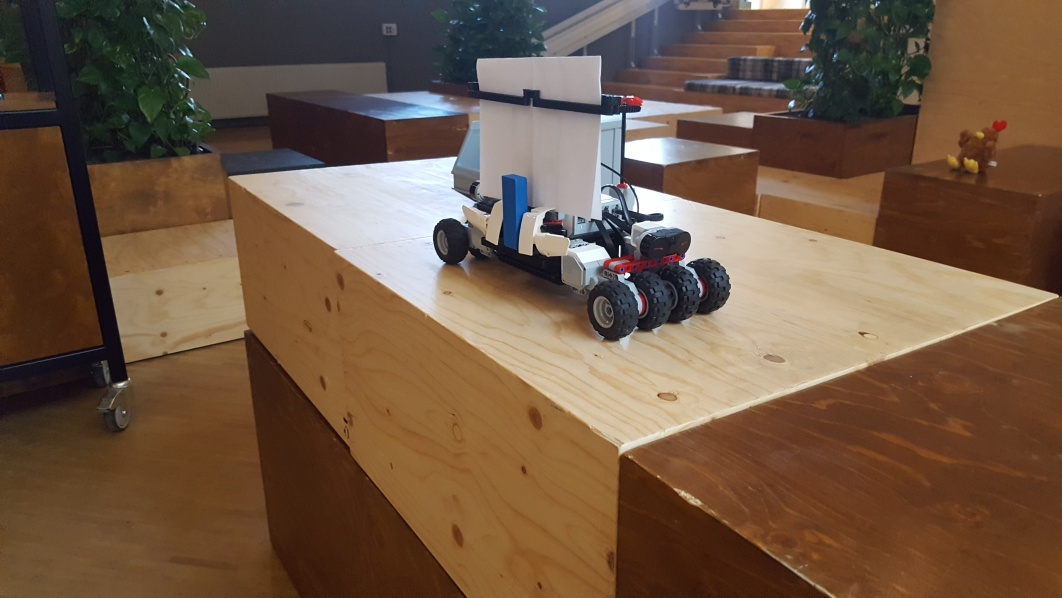beam: (502, 172, 527, 251)
